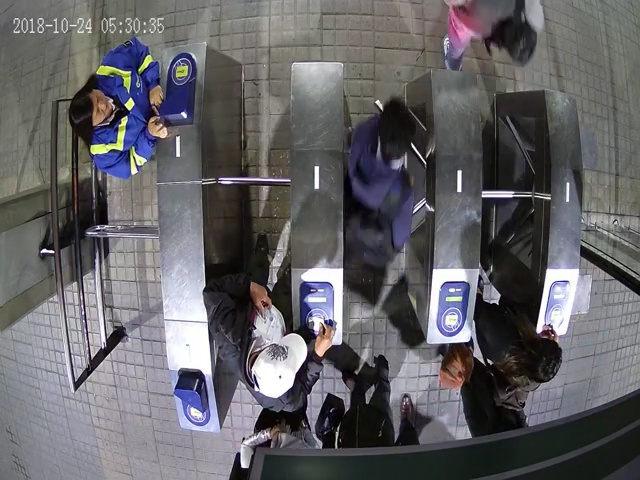Chaleco_azul: (69, 38, 169, 179)
